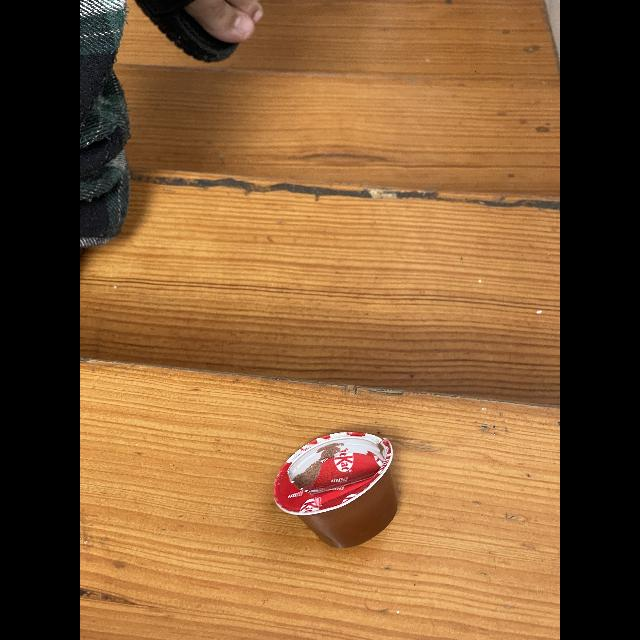damaged_capsule: (271, 426, 417, 552)
